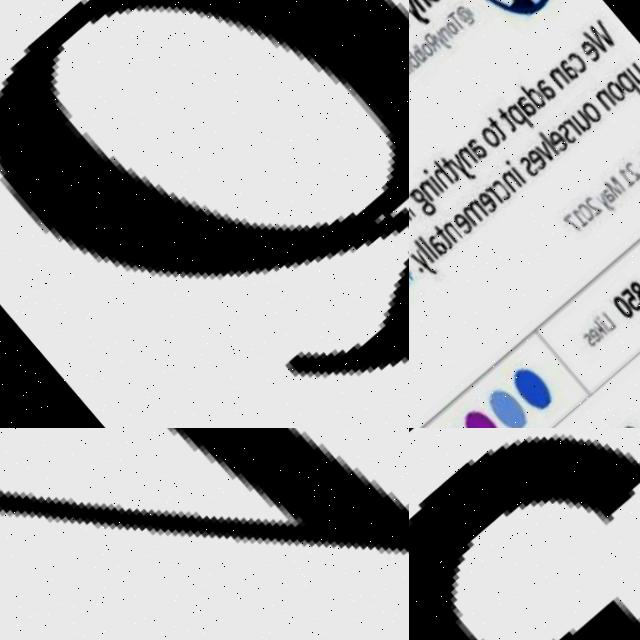0: (613, 290, 640, 319), (576, 198, 602, 222)
1: (572, 204, 595, 227), (620, 165, 640, 186)
2: (584, 192, 608, 216), (625, 158, 640, 180)
3: (409, 428, 640, 640)
5: (622, 283, 640, 312)
7: (564, 209, 588, 233)
8: (628, 274, 640, 305)
A: (464, 132, 495, 162), (532, 74, 563, 104), (555, 53, 586, 83), (426, 228, 457, 258), (515, 91, 543, 118), (603, 185, 622, 204)
B: (409, 41, 431, 63), (409, 47, 423, 69)
C: (565, 47, 593, 74), (491, 174, 518, 201)
D: (519, 77, 551, 109)
E: (525, 144, 554, 172), (578, 35, 606, 63), (477, 187, 506, 214), (453, 209, 481, 236), (548, 127, 573, 153), (591, 324, 609, 341)
F: (409, 192, 418, 222)
G: (410, 184, 444, 218)
H: (429, 158, 460, 188)
I: (424, 167, 449, 191), (506, 158, 531, 182), (599, 313, 617, 330), (409, 190, 421, 215), (409, 53, 416, 70)
K: (594, 316, 615, 337)
L: (420, 234, 445, 258), (540, 130, 564, 154), (416, 238, 440, 262), (604, 310, 624, 329)
M: (463, 197, 495, 227), (605, 172, 632, 198)
N: (548, 63, 574, 89), (444, 218, 469, 244), (458, 143, 483, 168), (596, 85, 621, 110), (420, 177, 445, 201), (503, 168, 527, 192), (438, 24, 456, 41), (409, 0, 434, 12), (409, 59, 414, 76)
O: (478, 122, 506, 149), (605, 76, 631, 102), (581, 98, 606, 123), (418, 38, 437, 58), (444, 17, 463, 36)
P: (506, 100, 539, 133), (616, 69, 640, 98)
Q: (0, 0, 409, 428)
R: (487, 183, 510, 206), (563, 115, 586, 137), (424, 31, 444, 51)
S: (519, 152, 545, 178), (557, 120, 582, 144), (586, 330, 604, 347)
T: (487, 113, 514, 141), (434, 222, 462, 249), (496, 105, 523, 132), (440, 155, 467, 181), (445, 7, 469, 31)
U: (572, 107, 597, 132), (625, 59, 640, 83)
V: (0, 428, 409, 640), (535, 138, 561, 163)
W: (582, 16, 621, 55)
Y: (448, 151, 482, 184), (411, 245, 445, 278), (409, 0, 433, 28), (432, 29, 455, 51), (597, 190, 620, 212)
